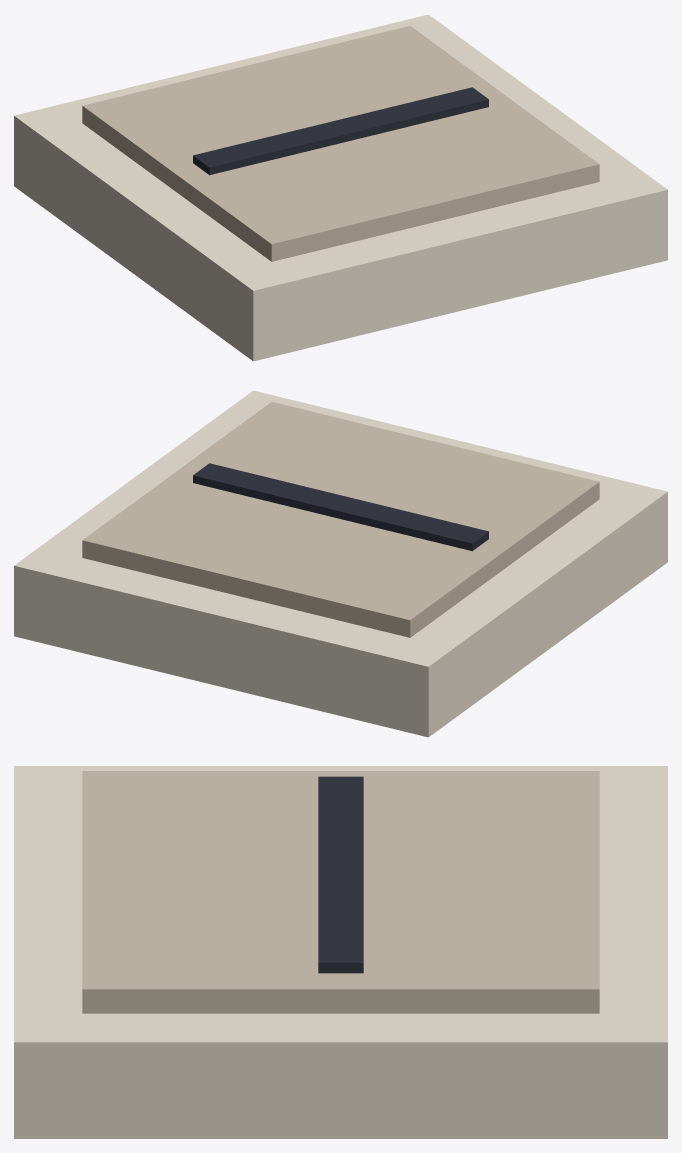
The model's file is SV_MTO_SKU_05_v01_lod2.glb.
The picture shows the model from 3 angles, top to bottom: view 1: azimuth 30°, elevation 25°; view 2: azimuth 150°, elevation 25°; view 3: azimuth 270°, elevation 25°; orthographic projection. The views are drawn at different scales.
Visible parts, largest first — view 1: SV_MTO_SKU_05_v01; view 2: SV_MTO_SKU_05_v01; view 3: SV_MTO_SKU_05_v01.
Part boxes in pixels (x1,y1,x2,y2): SV_MTO_SKU_05_v01: (14,14,667,361); SV_MTO_SKU_05_v01: (14,390,667,737); SV_MTO_SKU_05_v01: (14,766,667,1138).
Bounding box in the file's own units: 0.172 × 0.038 × 0.172.
